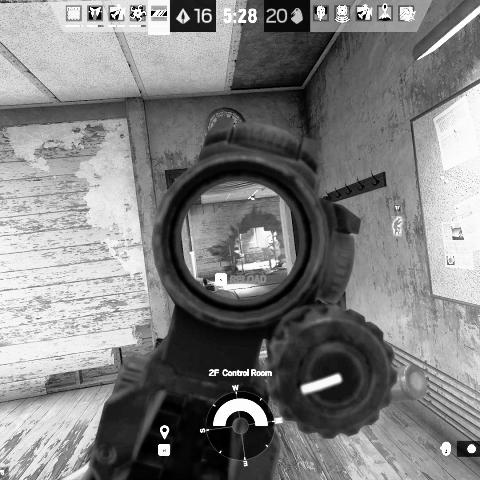Character: (267, 230, 279, 262)
Friend_label: (390, 205, 404, 219), (473, 194, 480, 205)
Head: (272, 232, 276, 236)
